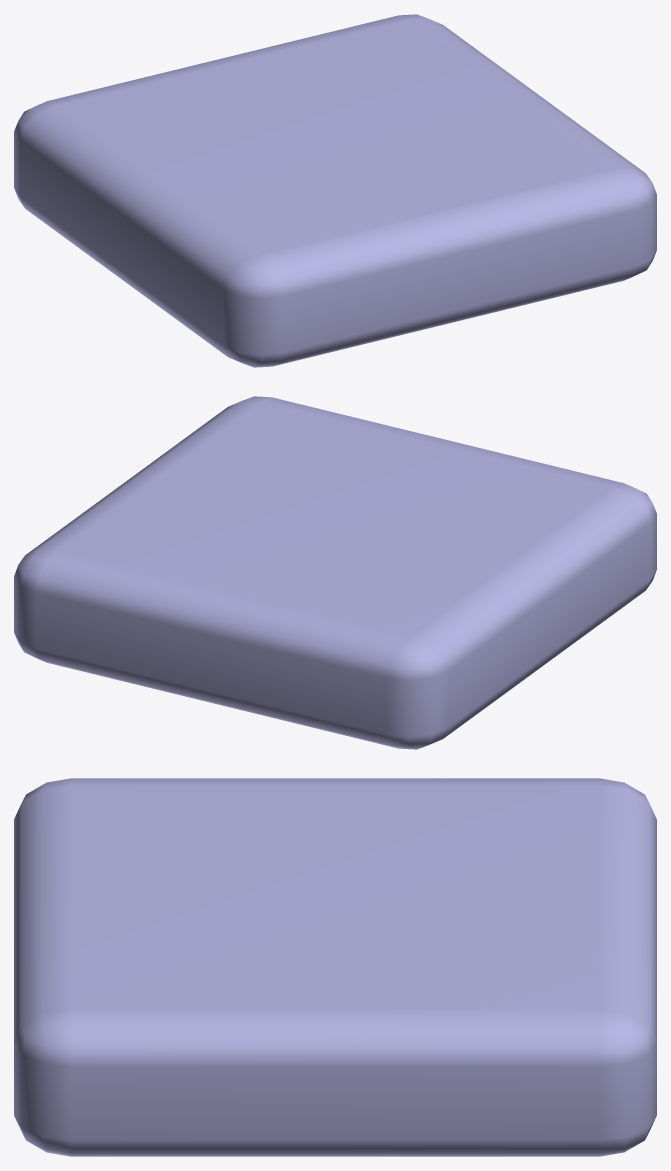
File: MEC0110006.fbx
3 renders of one model, top to bottom at view 1: azimuth 30°, elevation 25°; view 2: azimuth 150°, elevation 25°; view 3: azimuth 270°, elevation 25°, orthographic. The views are drawn at different scales.
Visible parts, largest first — view 1: smMEC0110006; view 2: smMEC0110006; view 3: smMEC0110006.
Part boxes in pixels (x1=…): smMEC0110006: x1=14, y1=14, x2=656, y2=367; smMEC0110006: x1=14, y1=396, x2=656, y2=749; smMEC0110006: x1=14, y1=778, x2=656, y2=1156.
Size of the model in its own units: 250 by 59.95 by 250.
